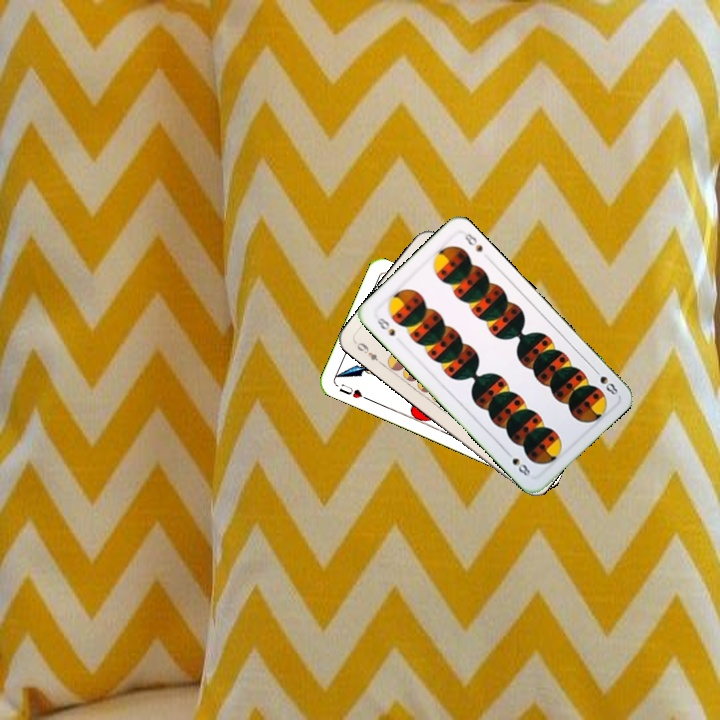E9: (351, 338, 385, 367)
HU: (335, 380, 371, 403)
S8: (589, 363, 620, 397), (370, 313, 398, 339)
